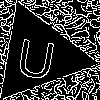U: (13, 29, 60, 80)
